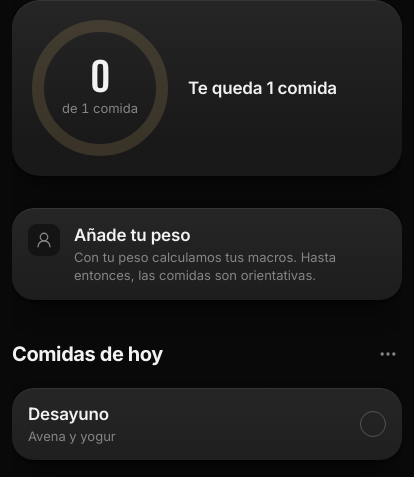
meal check-ins › gives lightweight feedback when a meal is checked and persists the check-in
Click the button "Desayuno Avena y yogur" at (68, 414), box [12, 388, 402, 460]
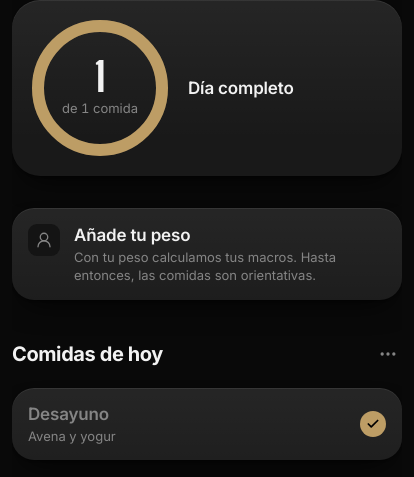
Now the button "Desayuno Avena y yogur" is pressed, box [12, 388, 402, 460]
